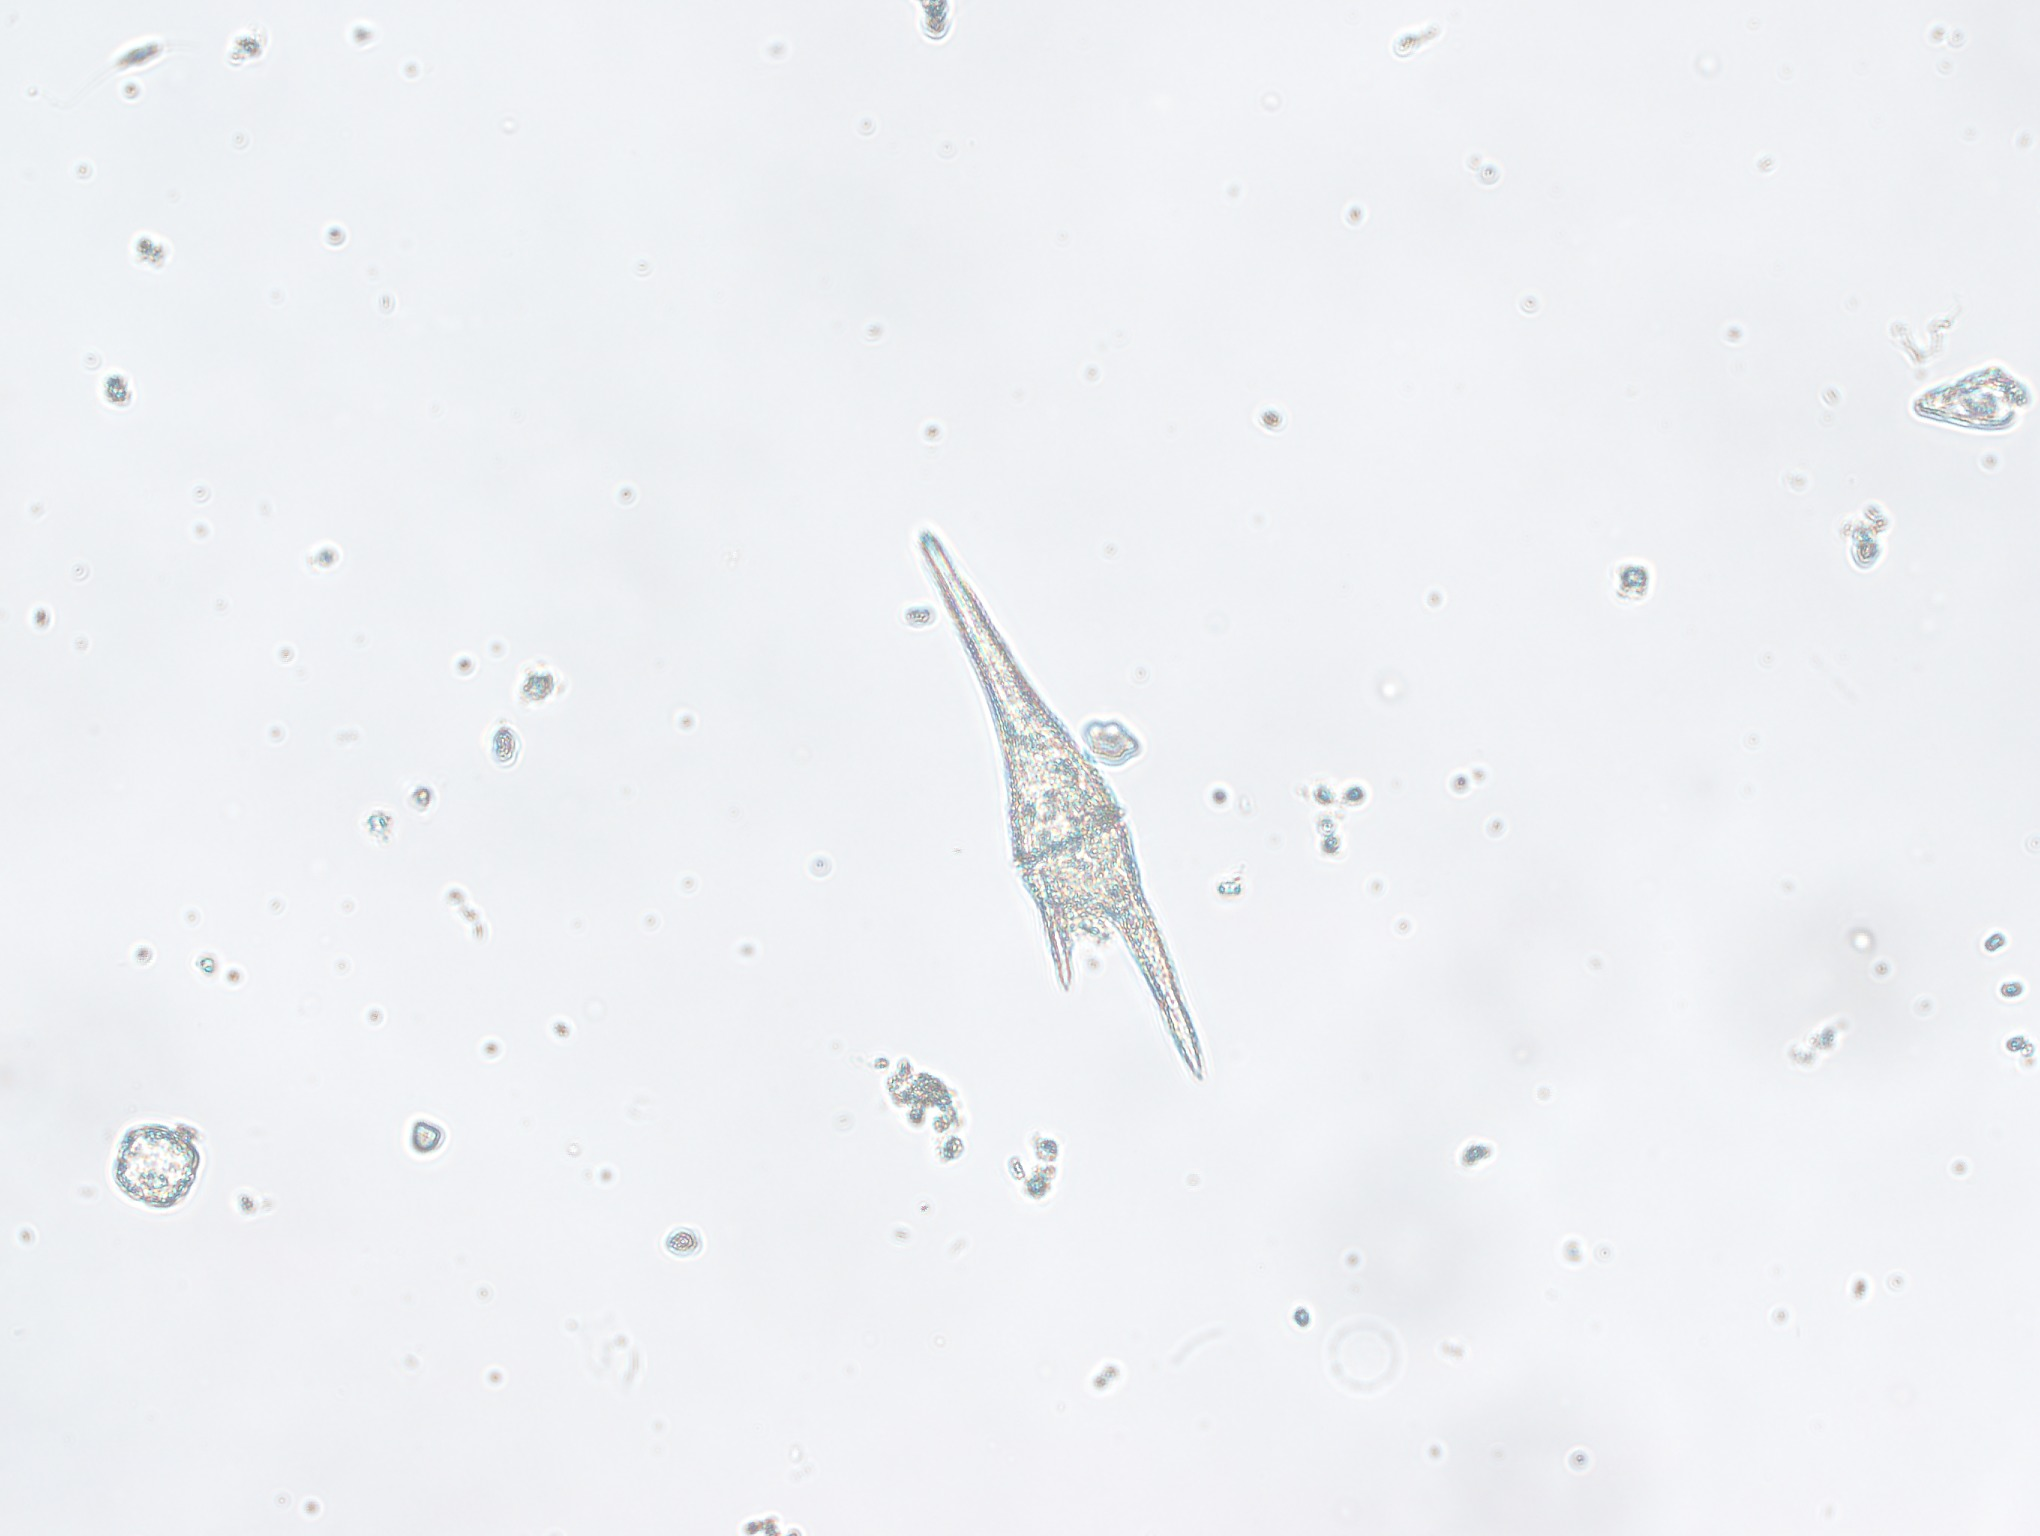ceratium furca: (910, 528, 1218, 1092)
